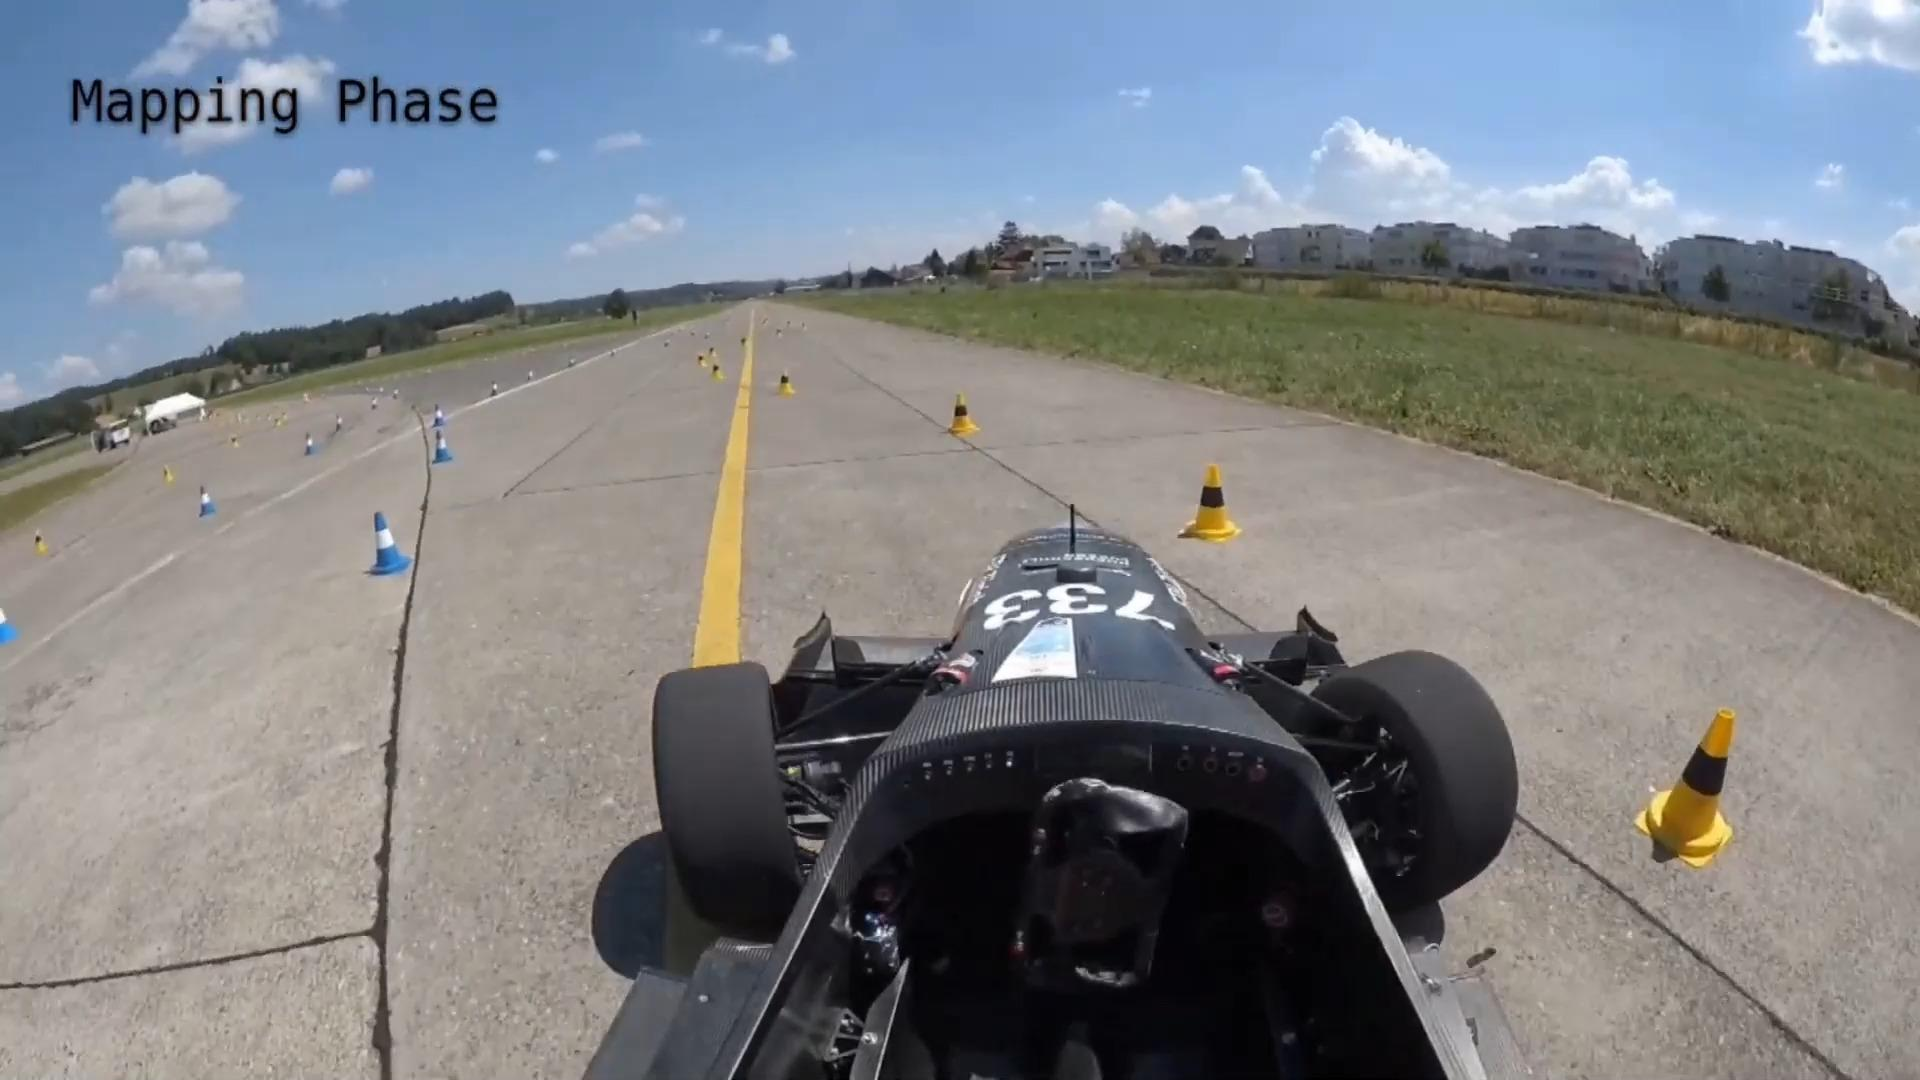blue_cone: (369, 514, 414, 579), (430, 430, 455, 465), (198, 487, 216, 518)
yellow_cone: (1631, 707, 1739, 869), (1180, 463, 1242, 543), (948, 394, 978, 439), (775, 369, 795, 396)
